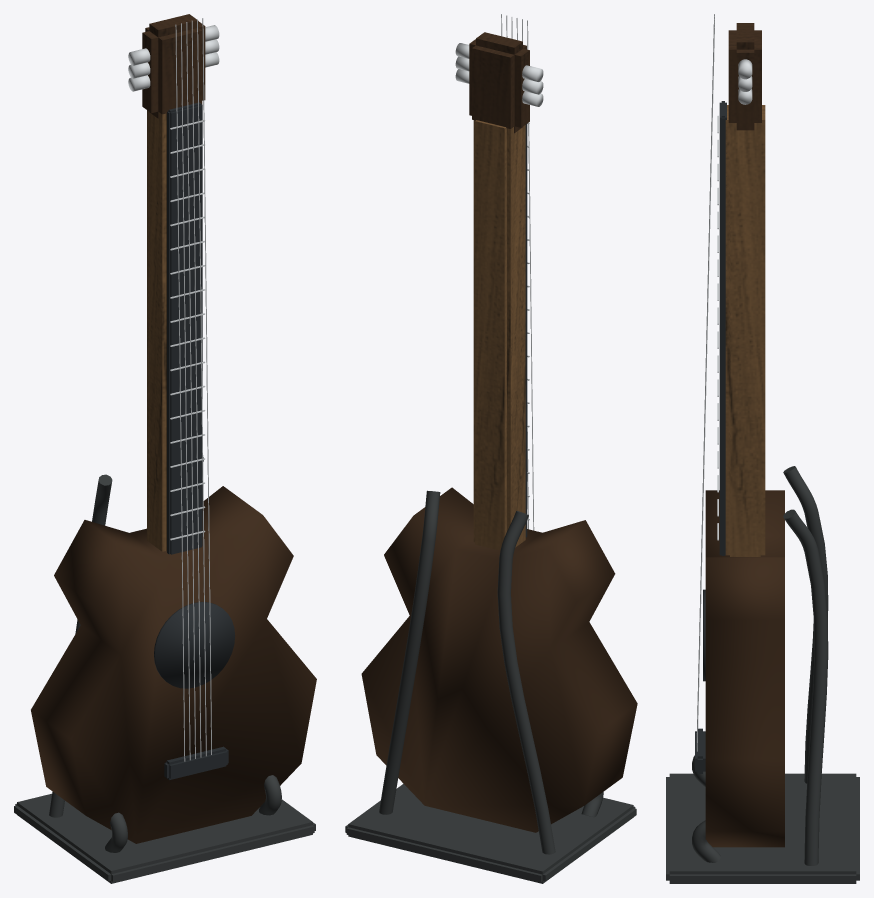
File: sku_v24_acoustic_guitar.glb
3 renders of one model, left to right at view 1: azimuth 30°, elevation 25°; view 2: azimuth 150°, elevation 25°; view 3: azimuth 270°, elevation 25°, orthographic. The views are drawn at different scales.
Visible parts, largest first — view 1: sku_v24_acoustic_guitar_CC0_Smoked_walnut.001, sku_v24_acoustic_guitar_V24_satin_black.002, sku_v24_acoustic_guitar_Anodised_graphite, sku_v24_acoustic_guitar_V24_brushed_silver.002, sku_v24_acoustic_guitar_CC0_Oak_veneer.003; view 2: sku_v24_acoustic_guitar_CC0_Smoked_walnut.001, sku_v24_acoustic_guitar_Anodised_graphite, sku_v24_acoustic_guitar_CC0_Oak_veneer.003, sku_v24_acoustic_guitar_V24_brushed_silver.002, sku_v24_acoustic_guitar_V24_satin_black.002; view 3: sku_v24_acoustic_guitar_CC0_Smoked_walnut.001, sku_v24_acoustic_guitar_Anodised_graphite, sku_v24_acoustic_guitar_CC0_Oak_veneer.003, sku_v24_acoustic_guitar_V24_satin_black.002, sku_v24_acoustic_guitar_V24_brushed_silver.002.
Part boxes in pixels (left/top/right/bottom): sku_v24_acoustic_guitar_CC0_Smoked_walnut.001: left=31, top=14, right=316, bottom=843; sku_v24_acoustic_guitar_V24_satin_black.002: left=154, top=102, right=235, bottom=779; sku_v24_acoustic_guitar_Anodised_graphite: left=14, top=457, right=315, bottom=883; sku_v24_acoustic_guitar_V24_brushed_silver.002: left=128, top=18, right=219, bottom=761; sku_v24_acoustic_guitar_CC0_Oak_veneer.003: left=147, top=110, right=166, bottom=551; sku_v24_acoustic_guitar_CC0_Smoked_walnut.001: left=361, top=32, right=637, bottom=832; sku_v24_acoustic_guitar_Anodised_graphite: left=345, top=490, right=636, bottom=883; sku_v24_acoustic_guitar_CC0_Oak_veneer.003: left=473, top=120, right=525, bottom=550; sku_v24_acoustic_guitar_V24_brushed_silver.002: left=455, top=14, right=543, bottom=530; sku_v24_acoustic_guitar_V24_satin_black.002: left=525, top=124, right=527, bottom=537; sku_v24_acoustic_guitar_CC0_Smoked_walnut.001: left=705, top=23, right=784, bottom=847; sku_v24_acoustic_guitar_Anodised_graphite: left=666, top=466, right=859, bottom=883; sku_v24_acoustic_guitar_CC0_Oak_veneer.003: left=725, top=105, right=765, bottom=556; sku_v24_acoustic_guitar_V24_satin_black.002: left=695, top=101, right=726, bottom=773; sku_v24_acoustic_guitar_V24_brushed_silver.002: left=696, top=14, right=752, bottom=751.
Bounding box in the file's own units: 0.32 × 1.02 × 0.22.
5 materials, 2 textured.
